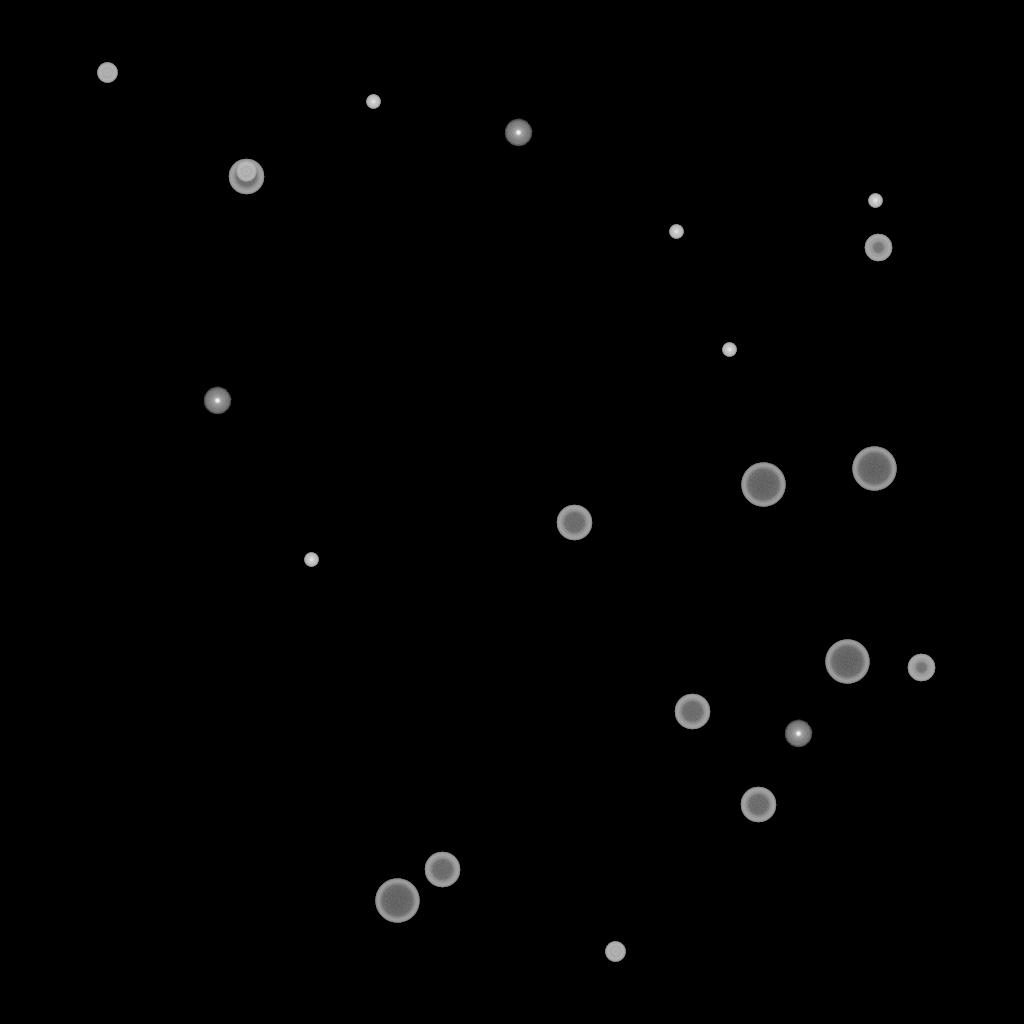depth:-10: (203, 387, 231, 415), (504, 119, 532, 147), (784, 720, 812, 748)
depth:-30: (722, 343, 736, 357), (304, 553, 318, 567), (366, 95, 380, 109), (868, 194, 882, 208), (669, 225, 683, 239)
depth:-40: (236, 162, 256, 182), (97, 63, 117, 83), (605, 942, 625, 962)
depth:-50: (864, 234, 892, 262), (907, 654, 935, 682)
depth:-60: (556, 505, 592, 541), (740, 787, 776, 823), (424, 852, 460, 888), (674, 694, 710, 730), (228, 159, 264, 195)
depth:-70: (375, 879, 419, 923), (825, 640, 869, 684), (741, 463, 785, 507), (852, 447, 896, 491)
